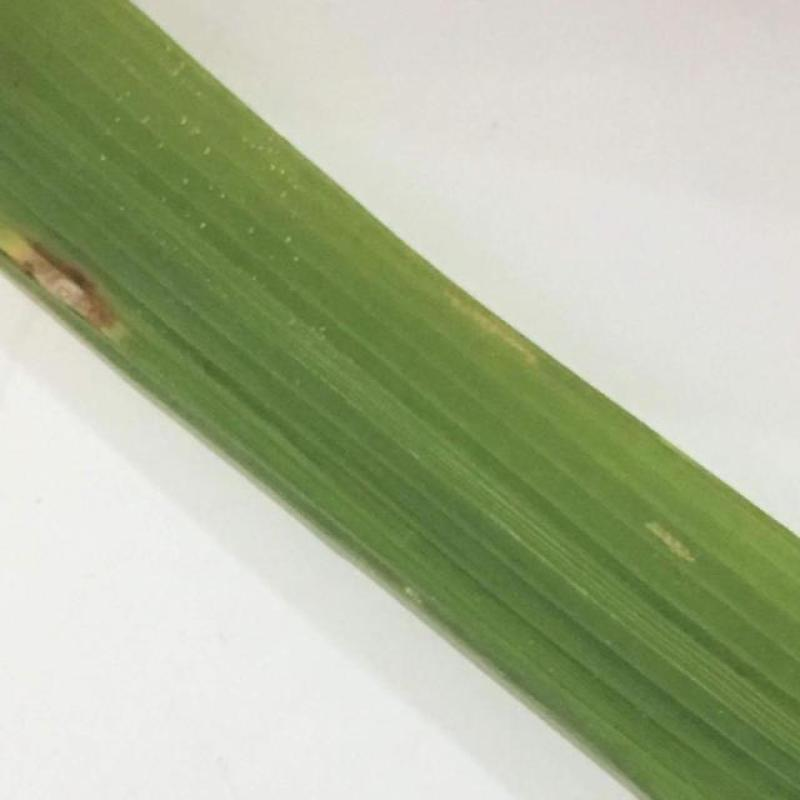Leaf_Blast: (1, 220, 139, 354)
